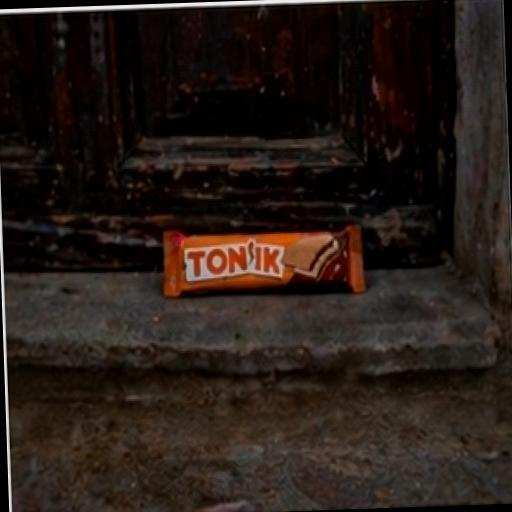tonik: (108, 114, 424, 432)
